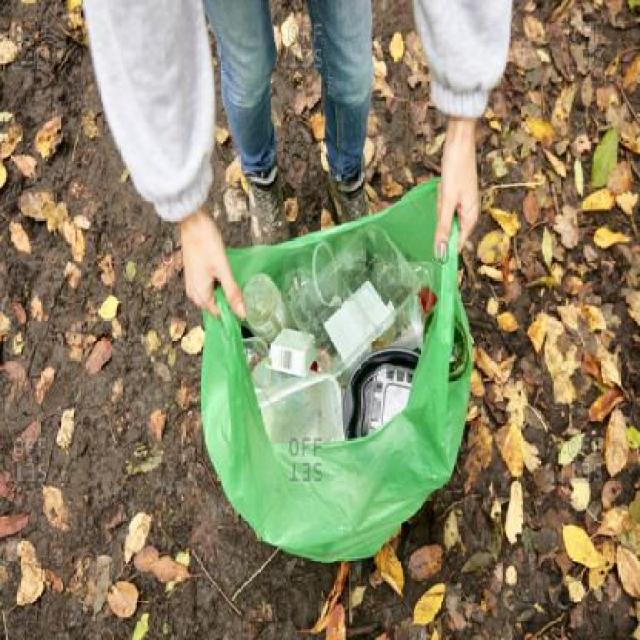plastic bag: (174, 178, 485, 604)
